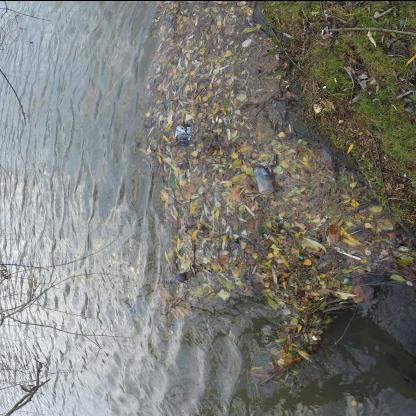diger: (175, 125, 193, 147)
plastik: (255, 166, 275, 195)
